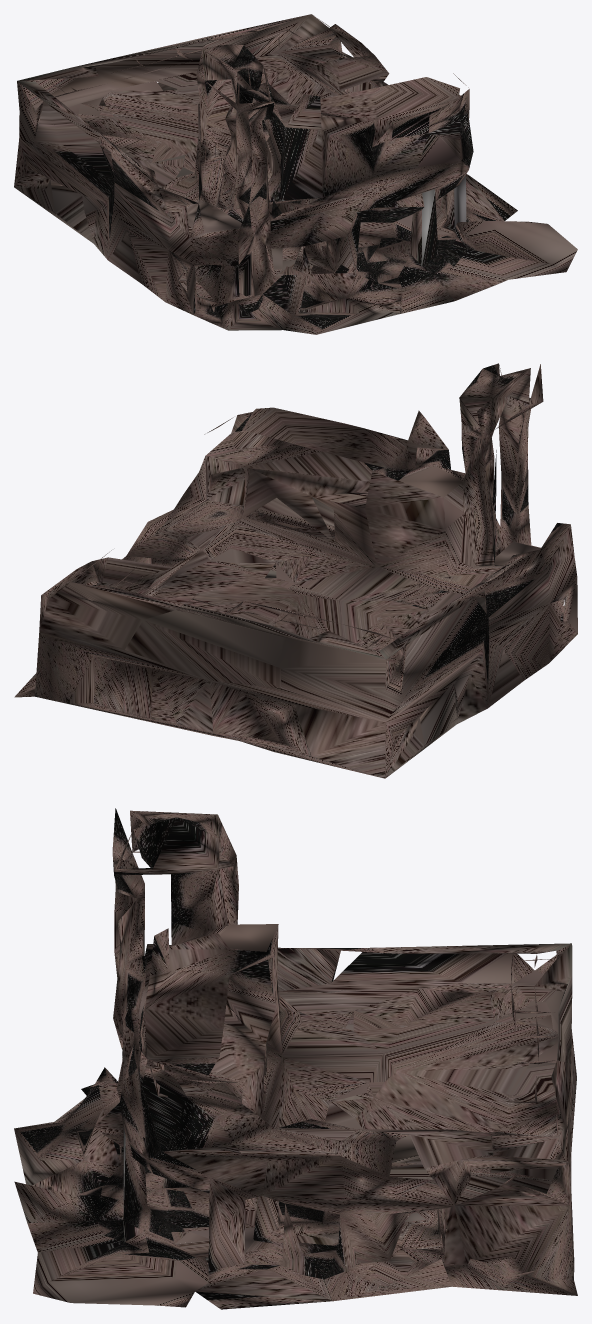
The model's file is casino.glb.
3 renders of one model, top to bottom at view 1: azimuth 30°, elevation 25°; view 2: azimuth 150°, elevation 25°; view 3: azimuth 270°, elevation 25°, orthographic. The views are drawn at different scales.
Parts seen in each view (by area): view 1: casino; view 2: casino; view 3: casino.
Boxes of the visible parts, <box> form: casino: <box>14,14,577,334</box>; casino: <box>14,363,577,778</box>; casino: <box>14,808,577,1309</box>.
Bounding box in the file's own units: 22.84 × 14.92 × 24.3.
1 material, 1 textured.
